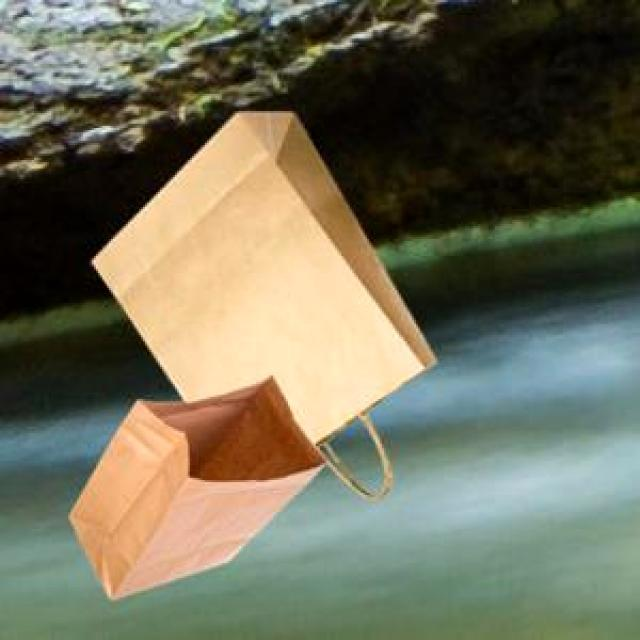Paper_Bag: (88, 108, 434, 494), (67, 372, 323, 596)
